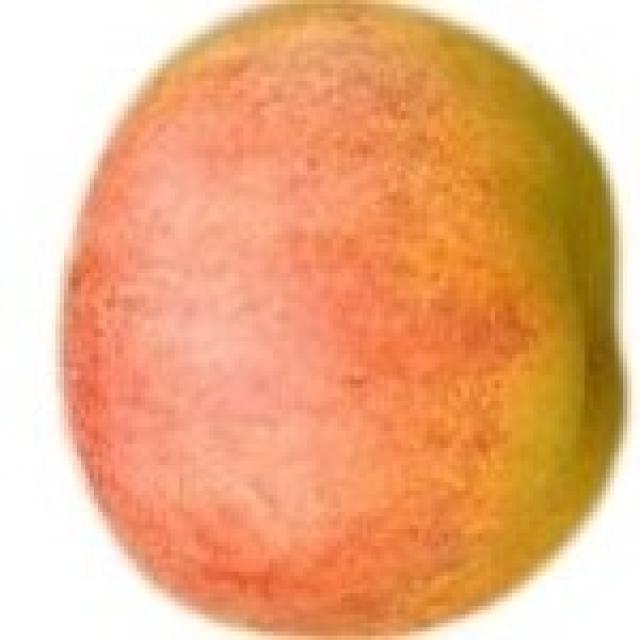75-_ripeness: (64, 0, 627, 634)
